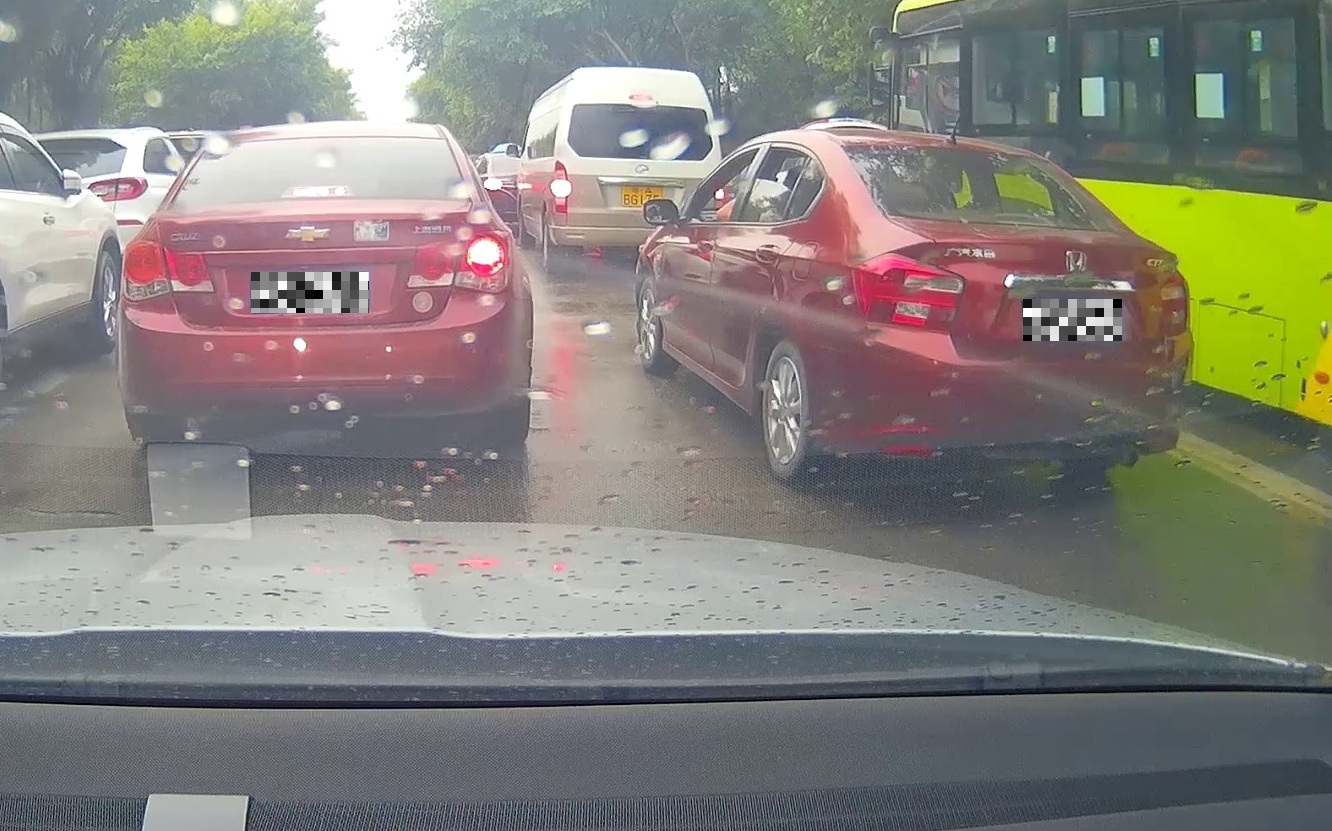L_light: (850, 252, 964, 332), (120, 238, 215, 302)
R_light: (406, 230, 514, 293), (1159, 261, 1190, 337)
T_light: (279, 185, 356, 199), (992, 212, 1055, 227)
day-no: (818, 128, 1196, 490)
day-right: (117, 121, 534, 446)
plate_1: (251, 272, 369, 313)
plate_2: (1023, 299, 1122, 341)
